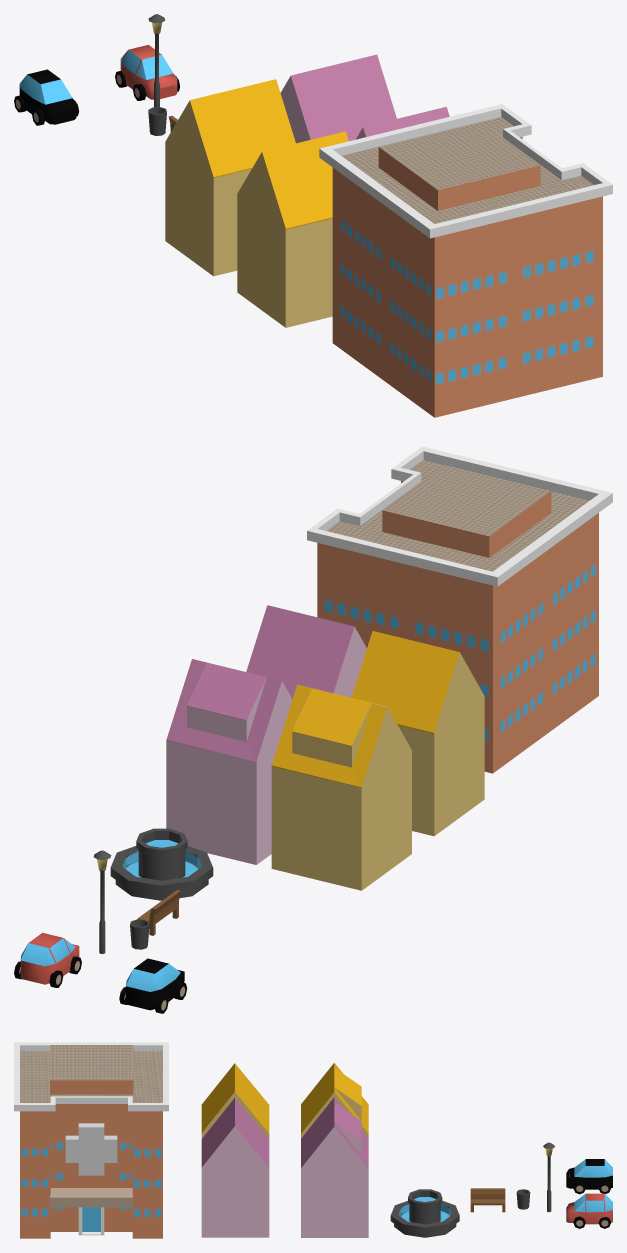
The model's file is city.FBX.
3 views of the same model, one above another, from view 1: azimuth 30°, elevation 25°; view 2: azimuth 150°, elevation 25°; view 3: azimuth 270°, elevation 25° (orthographic). The views are drawn at different scales.
Parts seen in each view (by area): view 1: Box002, Box011, Box012, Box001, Box007, Box013, Box009, Box006, Cylinder004; view 2: Box002, Box012, Box007, Box011, Box001, Box006, Cylinder001, Cylinder002, Box013, Box009, Box008; view 3: Box002, Box007, Box006, Box001, Box011, Box012, Box004, Box003, Cylinder001, Box009, Box013, Cylinder002 (+3 smaller).
Part boxes in pixels (x1,y1,x2,y2): Box002: [319, 104, 612, 417]; Box011: [237, 131, 348, 327]; Box012: [165, 79, 295, 276]; Box001: [378, 122, 540, 210]; Box007: [280, 54, 396, 143]; Box013: [19, 69, 76, 124]; Box009: [120, 45, 177, 99]; Box006: [356, 106, 449, 139]; Cylinder004: [148, 14, 165, 107]; Box002: [307, 446, 612, 773]; Box012: [271, 684, 411, 890]; Box007: [166, 659, 292, 864]; Box011: [351, 631, 484, 836]; Box001: [382, 465, 551, 557]; Box006: [246, 605, 366, 698]; Cylinder001: [110, 846, 213, 900]; Cylinder002: [136, 828, 187, 880]; Box013: [125, 958, 184, 1010]; Box009: [20, 932, 79, 984]; Box008: [137, 890, 180, 935]; Box002: [14, 1042, 168, 1238]; Box007: [301, 1097, 368, 1237]; Box006: [201, 1098, 269, 1237]; Box001: [50, 1045, 133, 1094]; Box011: [201, 1063, 269, 1138]; Box012: [301, 1063, 368, 1138]; Box004: [65, 1123, 117, 1175]; Box003: [50, 1188, 132, 1207]; Cylinder001: [390, 1201, 459, 1237]; Box009: [566, 1193, 612, 1224]; Box013: [566, 1159, 612, 1189]; Cylinder002: [408, 1189, 442, 1224].
Size of the model in its own units: 62.67 by 62.28 by 234.
